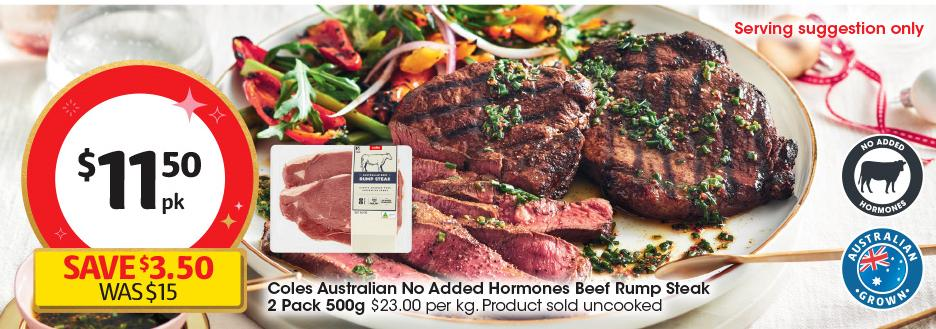description_block: (265, 277, 716, 317)
price_main: (18, 76, 262, 249)
product_image_block: (231, 19, 799, 262)
promo_text_block: (23, 246, 257, 318)
unit_price_block: (370, 294, 478, 321)
